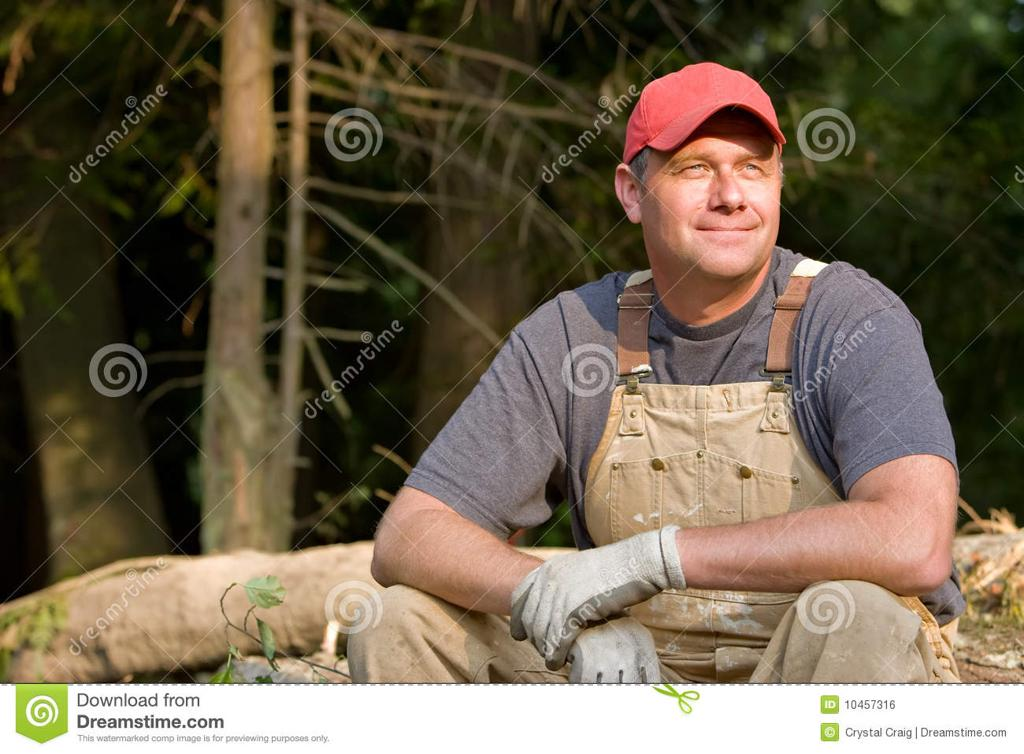face: (650, 100, 780, 262)
